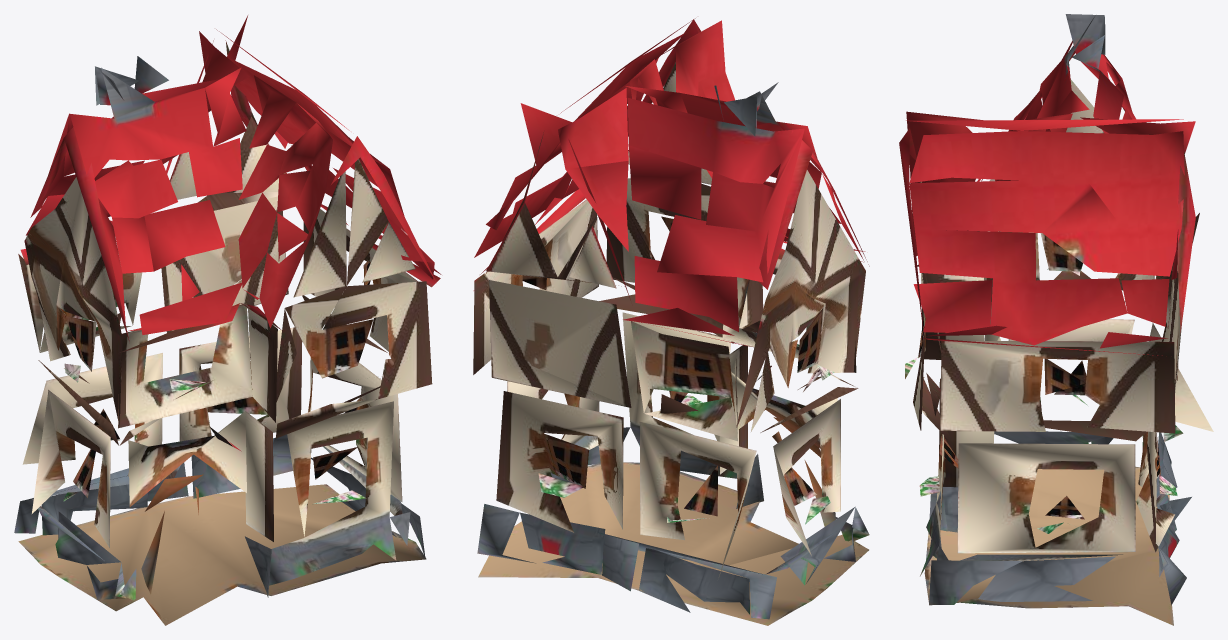
File: house_terra_6_lod2.glb
3 views of the same model, side by side, from view 1: azimuth 30°, elevation 25°; view 2: azimuth 150°, elevation 25°; view 3: azimuth 270°, elevation 25° (orthographic). The views are drawn at different scales.
Visible parts, largest first — view 1: ЦІЛЬ; view 2: ЦІЛЬ; view 3: ЦІЛЬ.
Boxes of the visible parts, left/top/right/bottom form: ЦІЛЬ: left=14, top=15, right=441, bottom=625; ЦІЛЬ: left=473, top=18, right=869, bottom=625; ЦІЛЬ: left=899, top=14, right=1213, bottom=625.
Bounding box in the file's own units: 1.45 × 2.12 × 1.21.
1 material, 1 textured.
